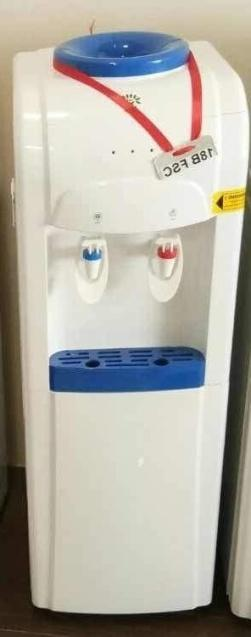Dispenser: (11, 31, 249, 613)
